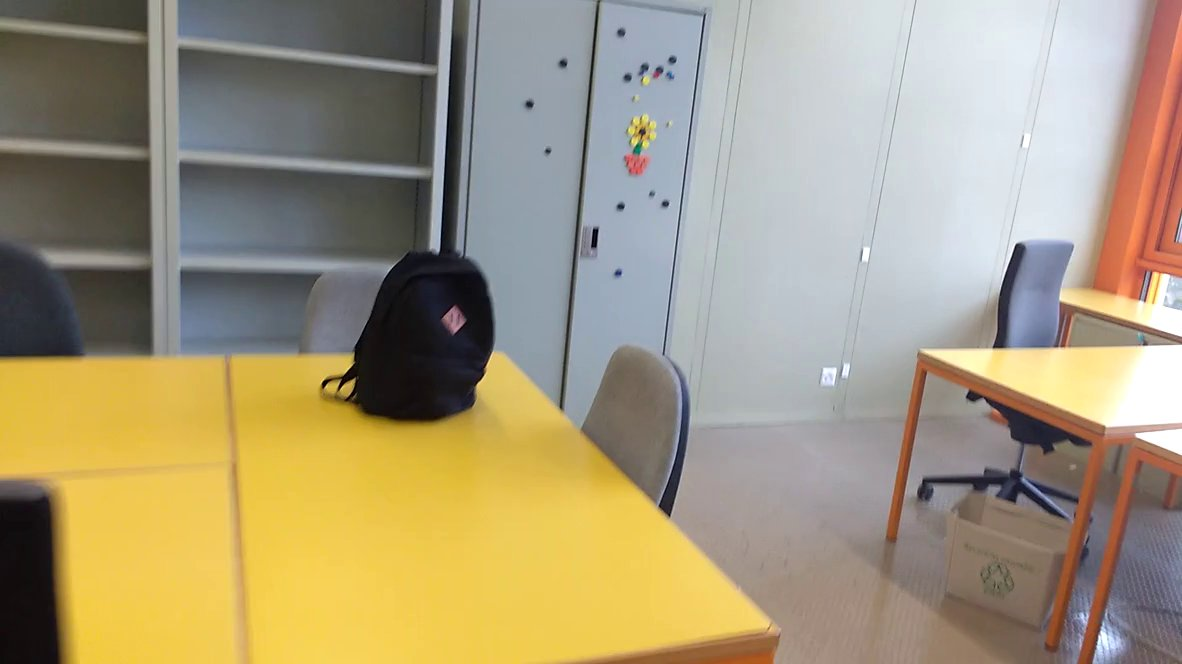bag: (318, 241, 499, 434)
box: (931, 484, 1094, 635)
chair: (963, 231, 1108, 565), (568, 329, 733, 571), (284, 260, 431, 375)
